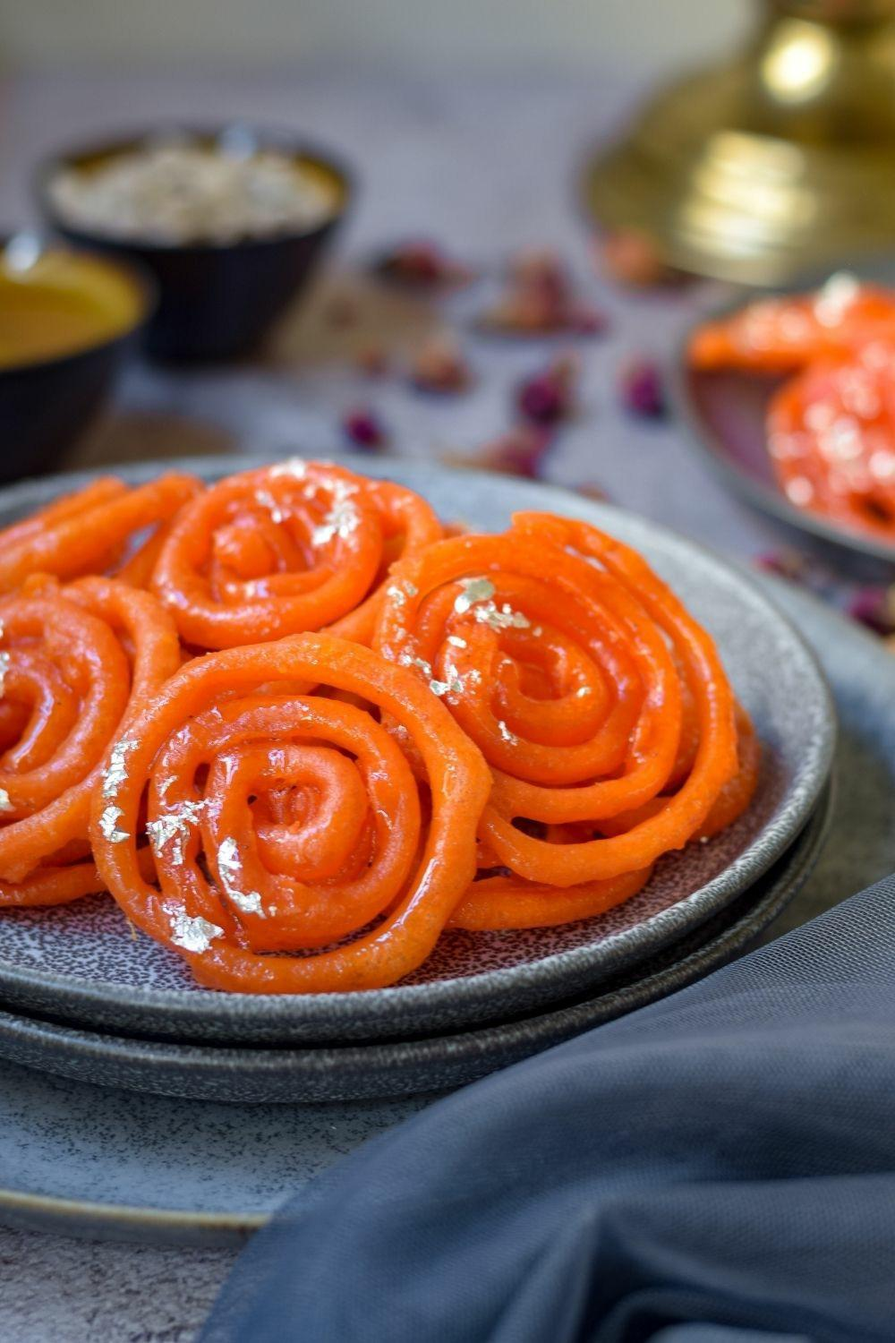Jalebi: (0, 448, 762, 999)
